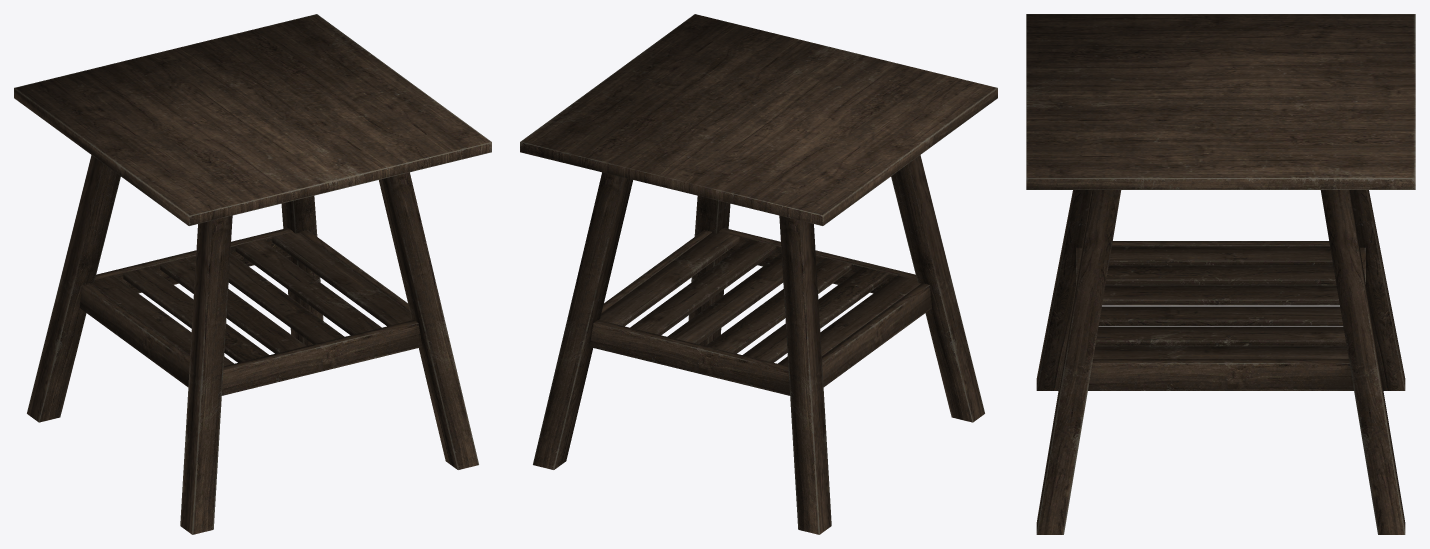
File: endTable02_b.FBX
3 views of the same model, side by side, from view 1: azimuth 30°, elevation 25°; view 2: azimuth 150°, elevation 25°; view 3: azimuth 270°, elevation 25° (orthographic). The views are drawn at different scales.
Visible parts, largest first — view 1: SM_EndTable02; view 2: SM_EndTable02; view 3: SM_EndTable02.
Boxes of the visible parts, bbox=[...] form: SM_EndTable02: bbox=[14, 14, 491, 534]; SM_EndTable02: bbox=[520, 14, 997, 534]; SM_EndTable02: bbox=[1026, 14, 1415, 534].
Bounding box in the file's own units: 69.08 × 70.66 × 69.08.
Materials: 1 (1 with a texture image).
